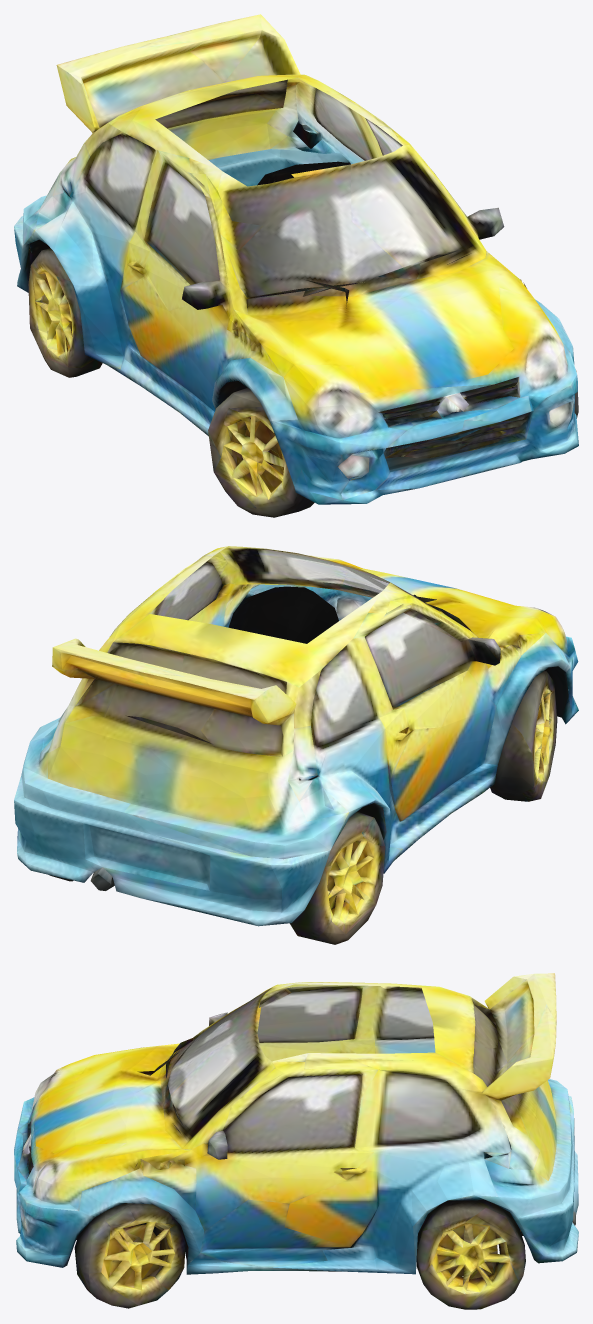
The model's file is rally.glb.
3 renders of one model, top to bottom at view 1: azimuth 30°, elevation 25°; view 2: azimuth 150°, elevation 25°; view 3: azimuth 270°, elevation 25°, orthographic. The views are drawn at different scales.
Visible parts, largest first — view 1: model; view 2: model; view 3: model.
Boxes of the visible parts, x1,y1,x2,y2 form: model: (14, 14, 578, 517); model: (14, 546, 578, 944); model: (14, 973, 578, 1309).
Bounding box in the file's own units: 1.69 × 1.33 × 2.9.
1 material, 1 textured.
